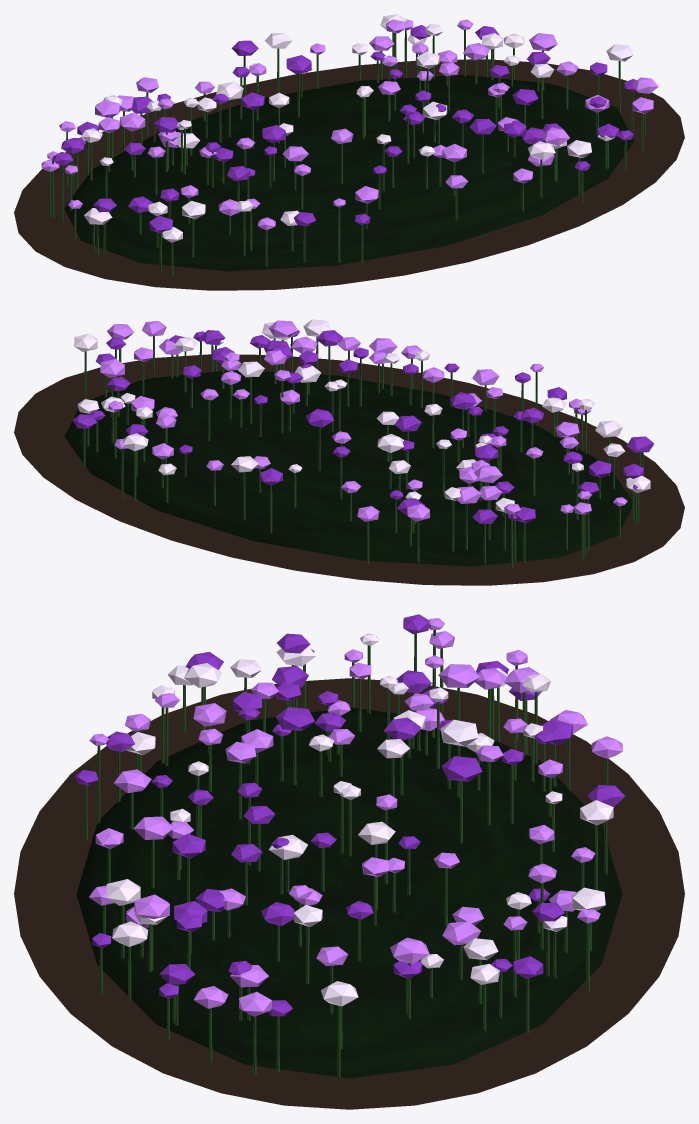
The model's file is flower-bed-2.glb.
3 views of the same model, one above another, from view 1: azimuth 30°, elevation 25°; view 2: azimuth 150°, elevation 25°; view 3: azimuth 270°, elevation 25° (orthographic). The views are drawn at different scales.
Parts seen in each view (by area): view 1: flower-bed-2_MeshStandardMaterial (×4); view 2: flower-bed-2_MeshStandardMaterial (×4); view 3: flower-bed-2_MeshStandardMaterial (×4).
Part boxes in pixels (x1,y1,x2,y2): flower-bed-2_MeshStandardMaterial (×4): [14, 14, 684, 290]; flower-bed-2_MeshStandardMaterial (×4): [14, 319, 684, 585]; flower-bed-2_MeshStandardMaterial (×4): [14, 614, 684, 1109].
Size of the model in its own units: 3.5 by 0.5395 by 2.3.
4 materials, 1 textured.
